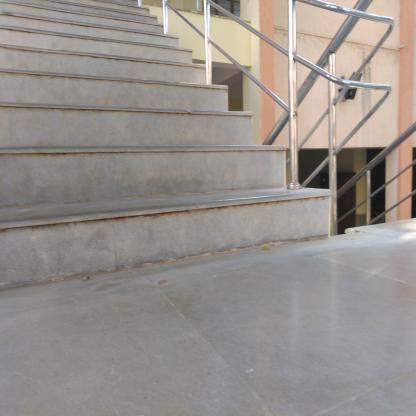stairs: (2, 20, 163, 295)
